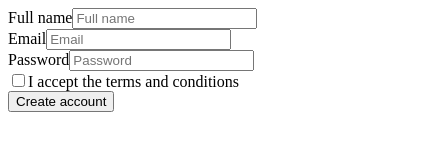
SignupForm › submits the form and shows a welcome message
Type "Ana López" into the field with placeholder "Full name".
click(165, 18); type("Ana López")  # box [72,8,257,29]
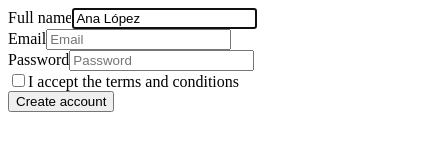
Type "ana@example.com" into the field with placeholder "Email".
click(139, 40); type("ana@example.com")  # box [46,29,231,50]
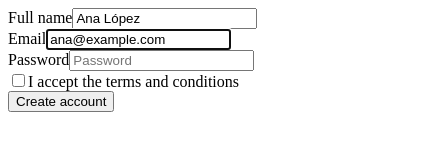
Type "correct-horse" into the password field with placeholder "Password".
click(162, 60); type("correct-horse")  # box [69,50,254,71]
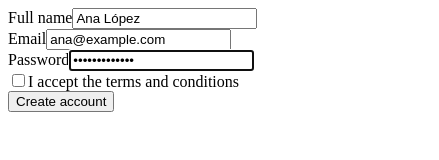
Click the checkbox.
click(18, 80)  # box [12,74,25,87]
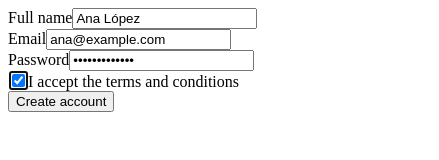
Click the button "Create account".
click(61, 102)  # box [8,91,114,112]
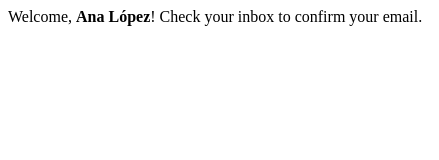
expect the text "Welcome, Ana López! Check your inbox to confirm your email." is shown: met, box [8,8,422,25]
